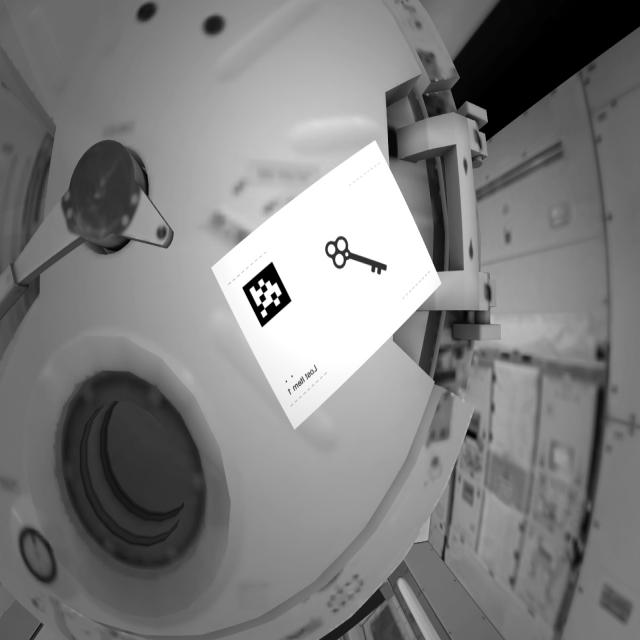key: (319, 236, 389, 283)
